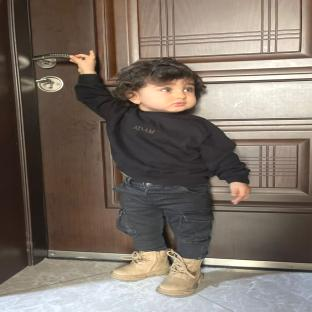Human: (70, 51, 249, 295)
